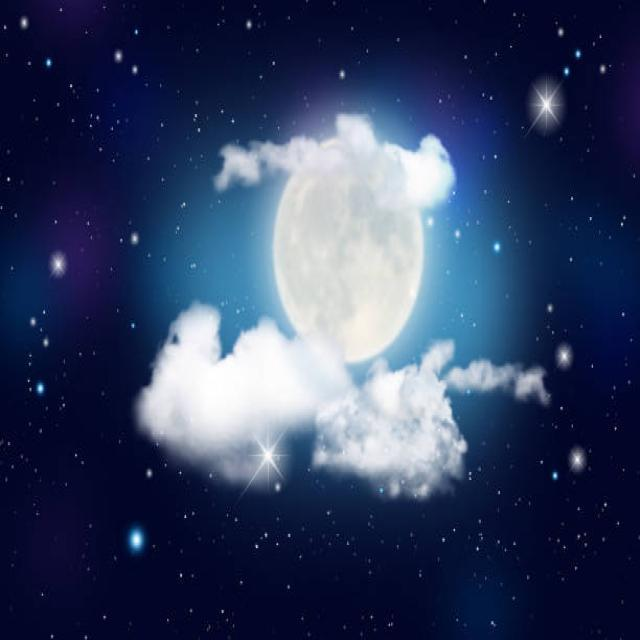moon: (262, 114, 428, 376)
